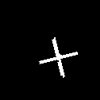single_crochet: (39, 37, 77, 76)
